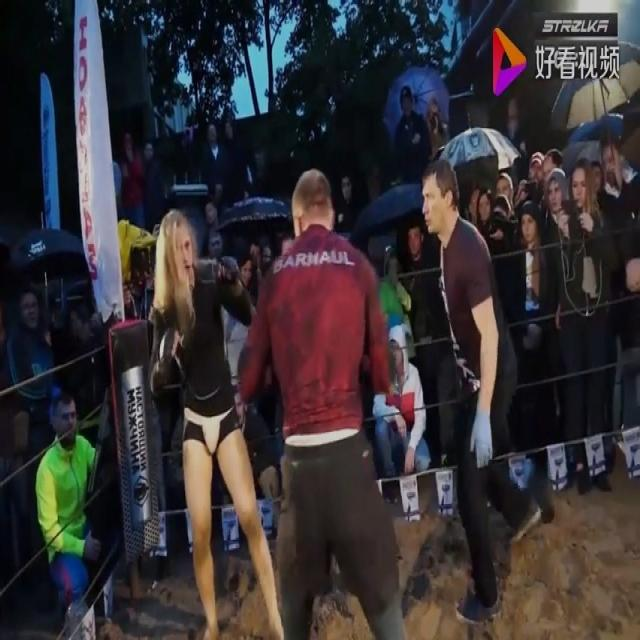fight: (141, 160, 410, 640)
non-fight: (415, 153, 543, 620), (540, 167, 612, 496), (36, 388, 112, 624), (401, 217, 459, 465), (597, 134, 640, 432), (4, 285, 58, 474), (378, 246, 413, 360), (394, 88, 430, 184), (200, 118, 229, 210), (120, 130, 146, 227), (142, 138, 167, 231), (425, 95, 449, 161)
